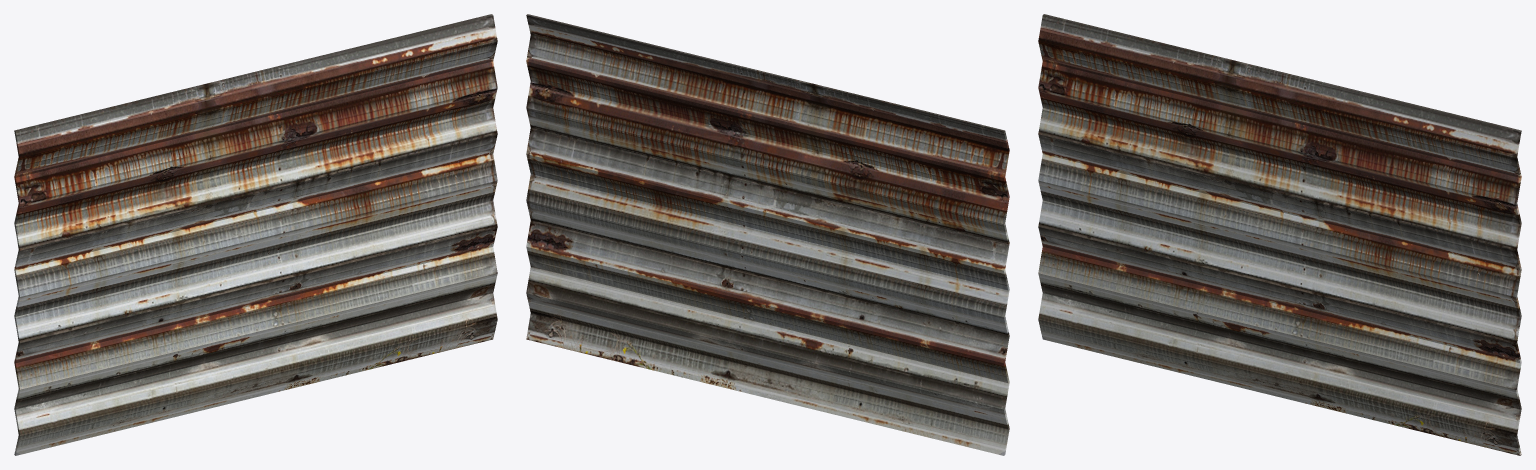
Rendered from metal_plate_02.fbx.
3 renders of one model, left to right at view 1: azimuth 30°, elevation 25°; view 2: azimuth 150°, elevation 25°; view 3: azimuth 330°, elevation 25°, orthographic.
Parts seen in each view (by area): view 1: metal_plate_02; view 2: metal_plate_02; view 3: metal_plate_02.
Boxes of the visible parts, x1,y1,x2,y2 form: metal_plate_02: (14,14,497,455); metal_plate_02: (526,14,1009,455); metal_plate_02: (1038,14,1521,455).
Size of the model in its own units: 2.84 by 1.84 by 0.0602.
